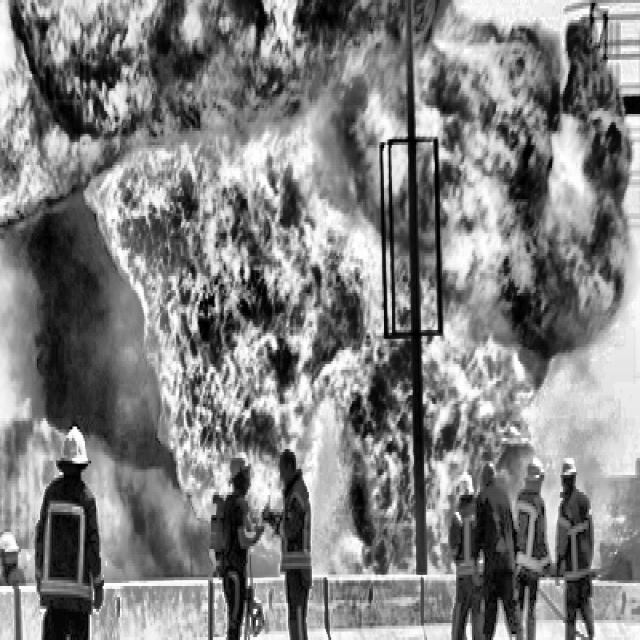fire: (4, 4, 640, 564)
